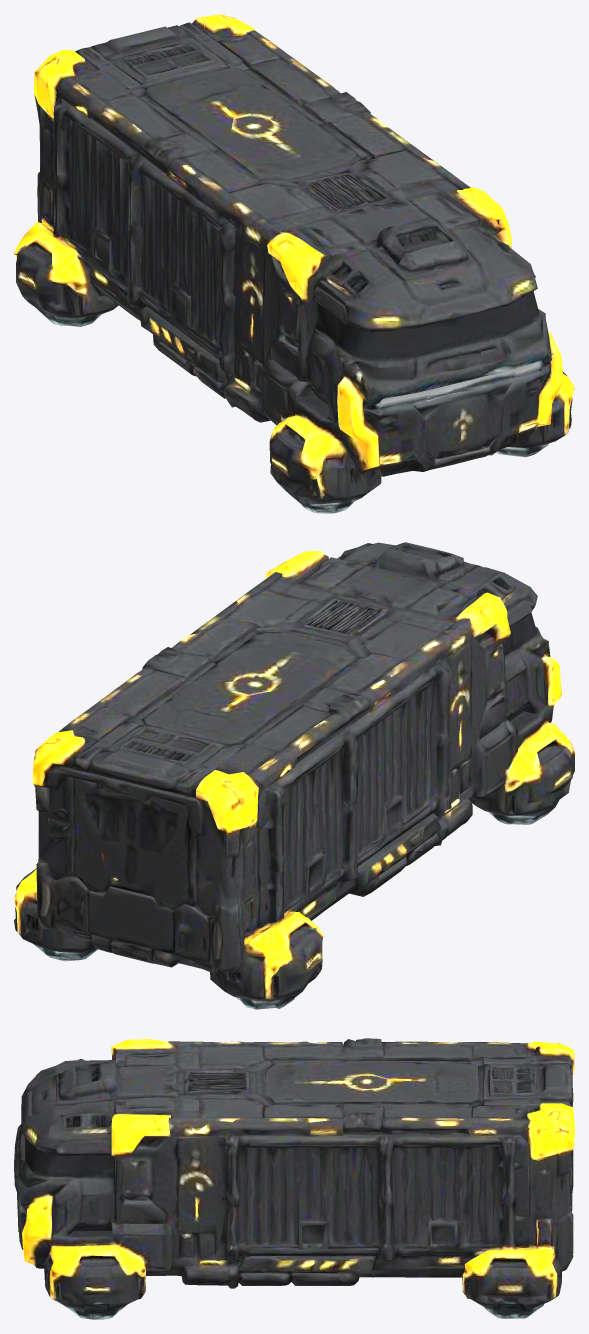
The model's file is car-b.glb.
3 views of the same model, one above another, from view 1: azimuth 30°, elevation 25°; view 2: azimuth 150°, elevation 25°; view 3: azimuth 270°, elevation 25° (orthographic). The views are drawn at different scales.
Parts seen in each view (by area): view 1: SM_car_b; view 2: SM_car_b; view 3: SM_car_b.
Boxes of the visible parts, box(x1,y1,x2,y2) form: SM_car_b: box(14, 14, 574, 513); SM_car_b: box(14, 542, 574, 1009); SM_car_b: box(14, 1038, 574, 1319).
Bounding box in the file's own units: 0.4899 × 0.394 × 0.9801.
Materials: 1 (1 with a texture image).
